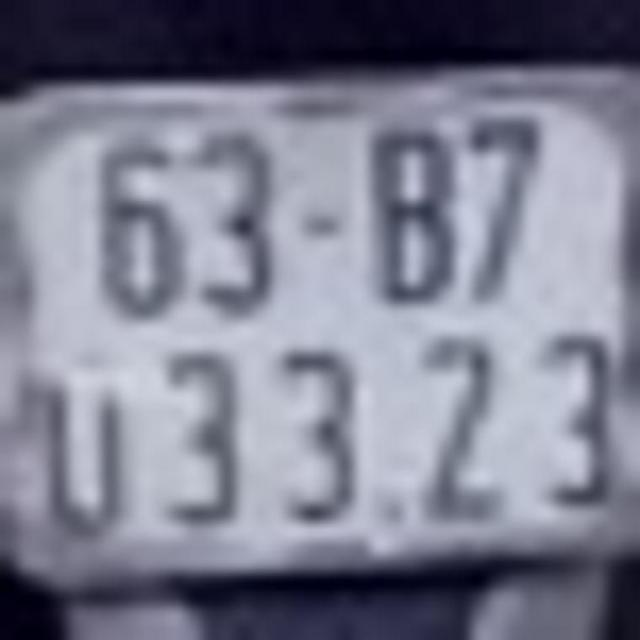0: (40, 344, 124, 542)
2: (411, 321, 504, 520)
3: (156, 328, 247, 541), (282, 329, 360, 529), (197, 126, 272, 320), (539, 324, 613, 510)
6: (98, 130, 188, 325)
7: (459, 107, 552, 312)
B: (370, 142, 450, 308)
